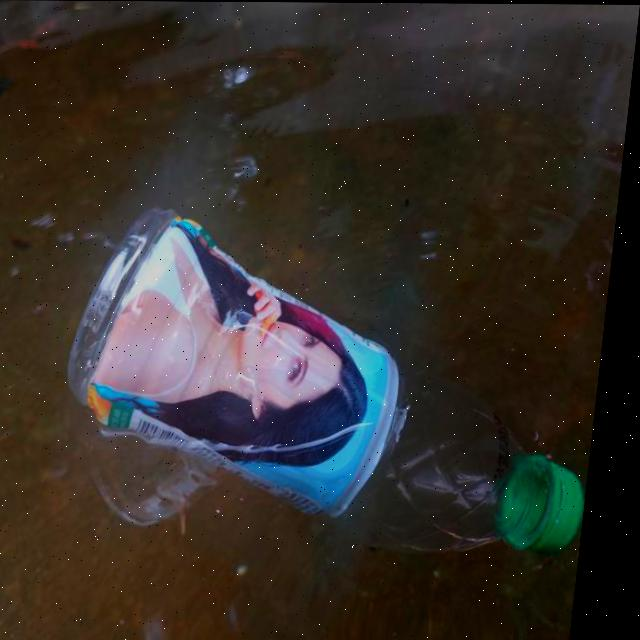paper: (45, 202, 620, 565)
